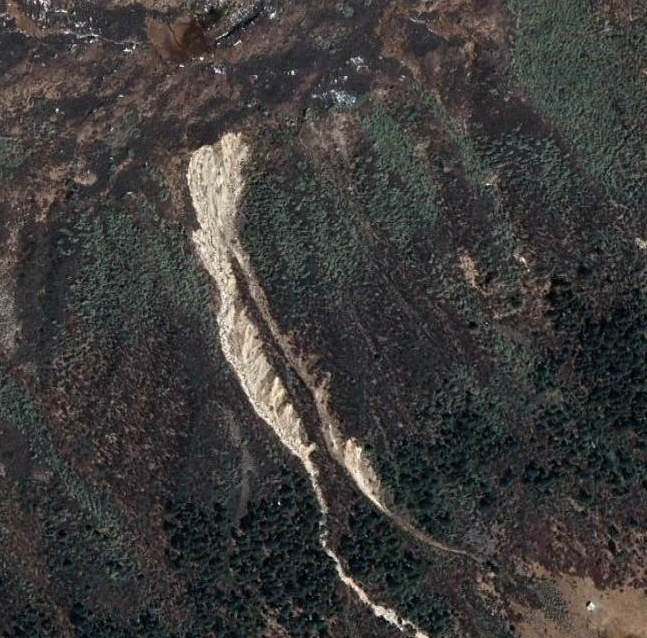slope: (180, 126, 393, 525)
